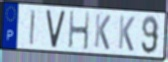9: (141, 15, 159, 56)
H: (67, 10, 90, 52)
I: (28, 8, 37, 47)
K: (93, 13, 112, 52), (117, 14, 136, 53)
V: (45, 10, 67, 50)
